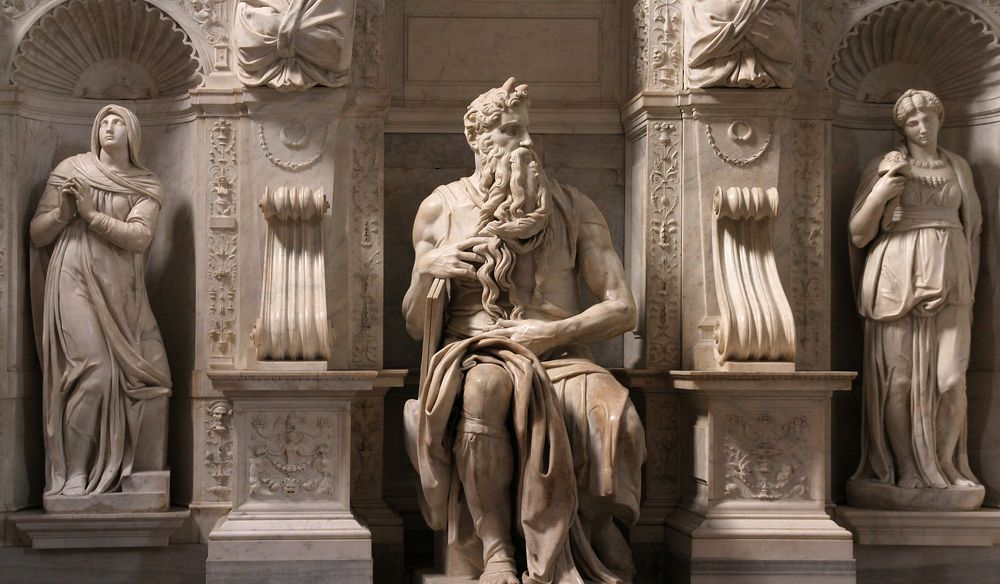person-like: (396, 72, 653, 584), (841, 79, 989, 502), (21, 100, 176, 502)
